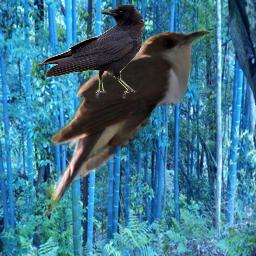Crow: (35, 4, 146, 99)
Cuckoo: (46, 27, 211, 224)
